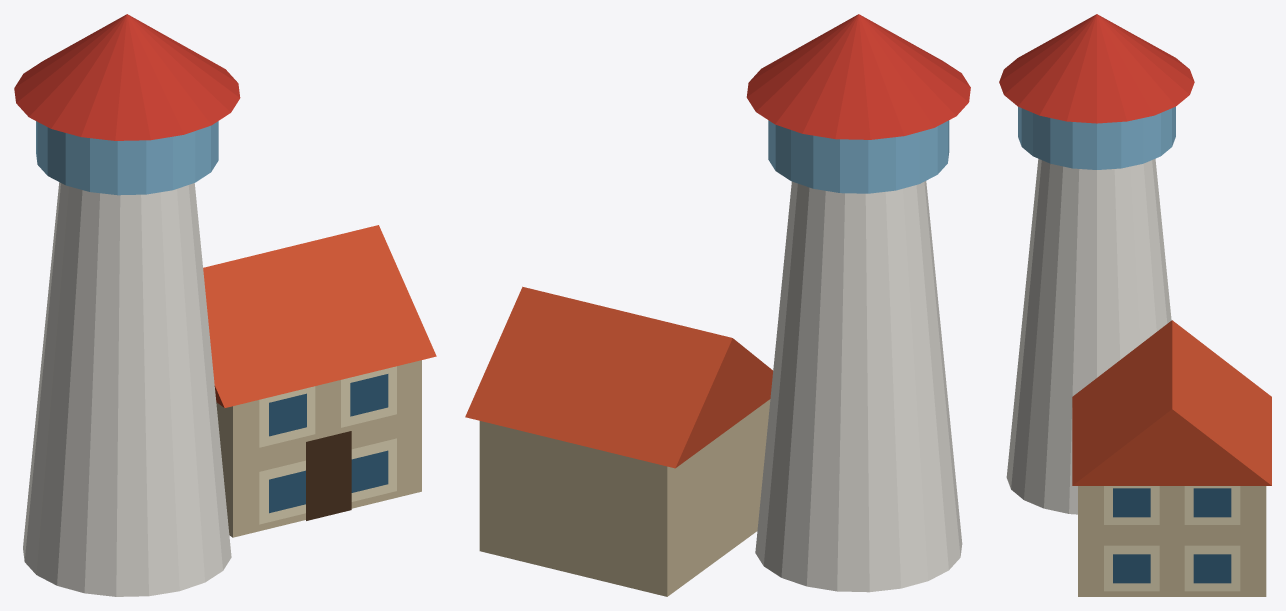
Rendered from building_lighthouse.fbx.
3 views of the same model, side by side, from view 1: azimuth 30°, elevation 25°; view 2: azimuth 150°, elevation 25°; view 3: azimuth 270°, elevation 25° (orthographic). The views are drawn at different scales.
Visible parts, largest first — view 1: building_lighthouse; view 2: building_lighthouse; view 3: building_lighthouse.
Boxes of the visible parts, x1,y1,x2,y2 form: building_lighthouse: (14, 14, 436, 596); building_lighthouse: (465, 14, 970, 596); building_lighthouse: (999, 14, 1271, 596).
Size of the model in its own units: 52 by 68 by 36.25.
